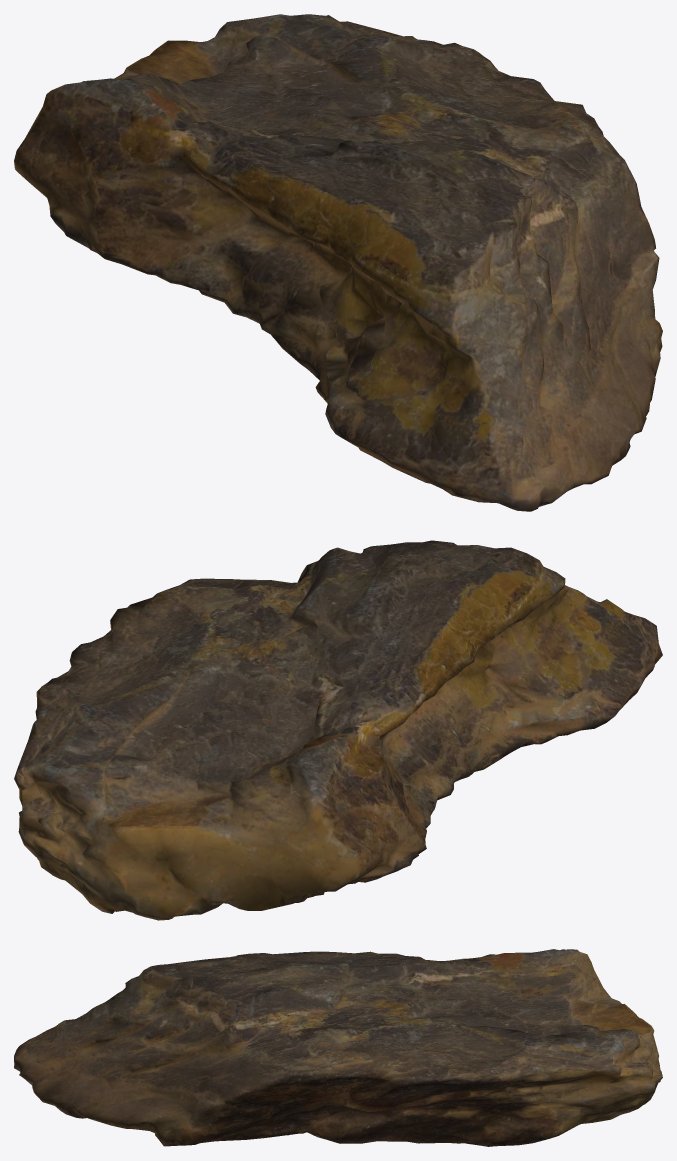
File: rock_09.glb
3 renders of one model, top to bottom at view 1: azimuth 30°, elevation 25°; view 2: azimuth 150°, elevation 25°; view 3: azimuth 270°, elevation 25°, orthographic. The views are drawn at different scales.
Visible parts, largest first — view 1: rock_09_LOD0; view 2: rock_09_LOD0; view 3: rock_09_LOD0.
Boxes of the visible parts, left/top/right/bottom form: rock_09_LOD0: left=14, top=14, right=662, bottom=511; rock_09_LOD0: left=14, top=540, right=662, bottom=920; rock_09_LOD0: left=14, top=949, right=662, bottom=1146.
Size of the model in its own units: 0.074 by 0.0328 by 0.1446.
Materials: 1 (1 with a texture image).
